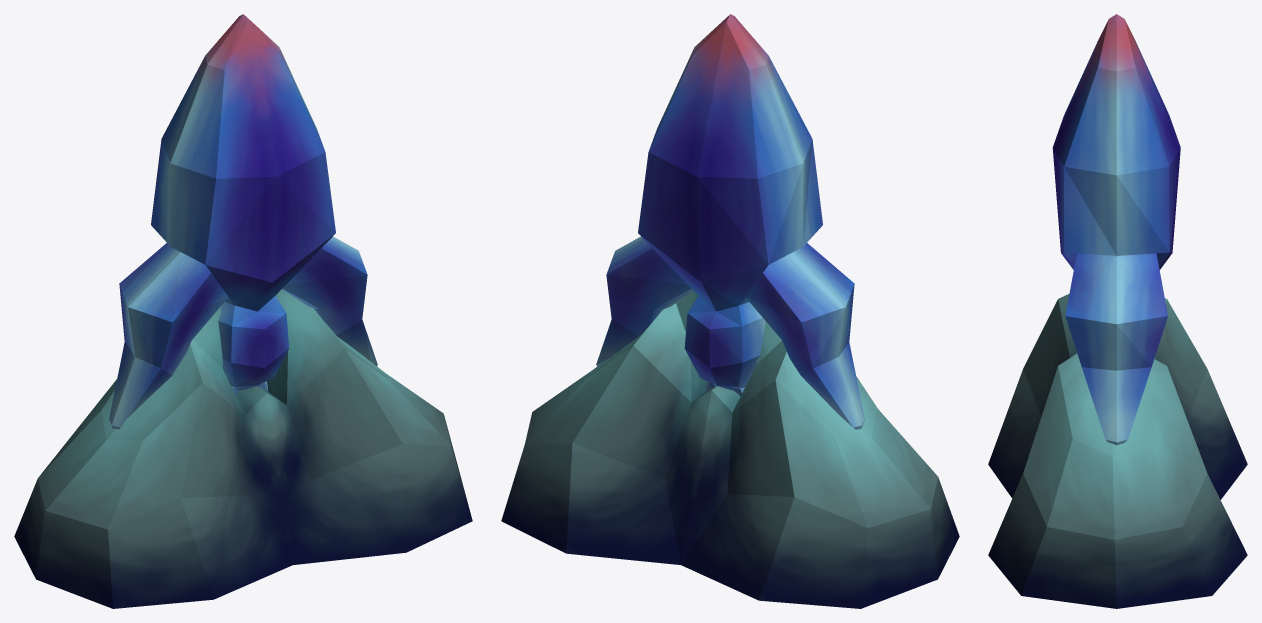
The model's file is lamp 2.fbx.
3 views of the same model, side by side, from view 1: azimuth 30°, elevation 25°; view 2: azimuth 150°, elevation 25°; view 3: azimuth 270°, elevation 25° (orthographic). The views are drawn at different scales.
Parts seen in each view (by area): view 1: base, sea angel; view 2: base, sea angel; view 3: base, sea angel.
Boxes of the visible parts, x1=… form: base: x1=14, y1=289, x2=472, y2=608; sea angel: x1=109, y1=14, x2=377, y2=429; base: x1=501, y1=291, x2=959, y2=608; sea angel: x1=596, y1=14, x2=864, y2=429; base: x1=988, y1=294, x2=1247, y2=608; sea angel: x1=1052, y1=14, x2=1180, y2=445.
Size of the model in its own units: 636 by 755 by 357.
Materials: 3 (3 with a texture image).
